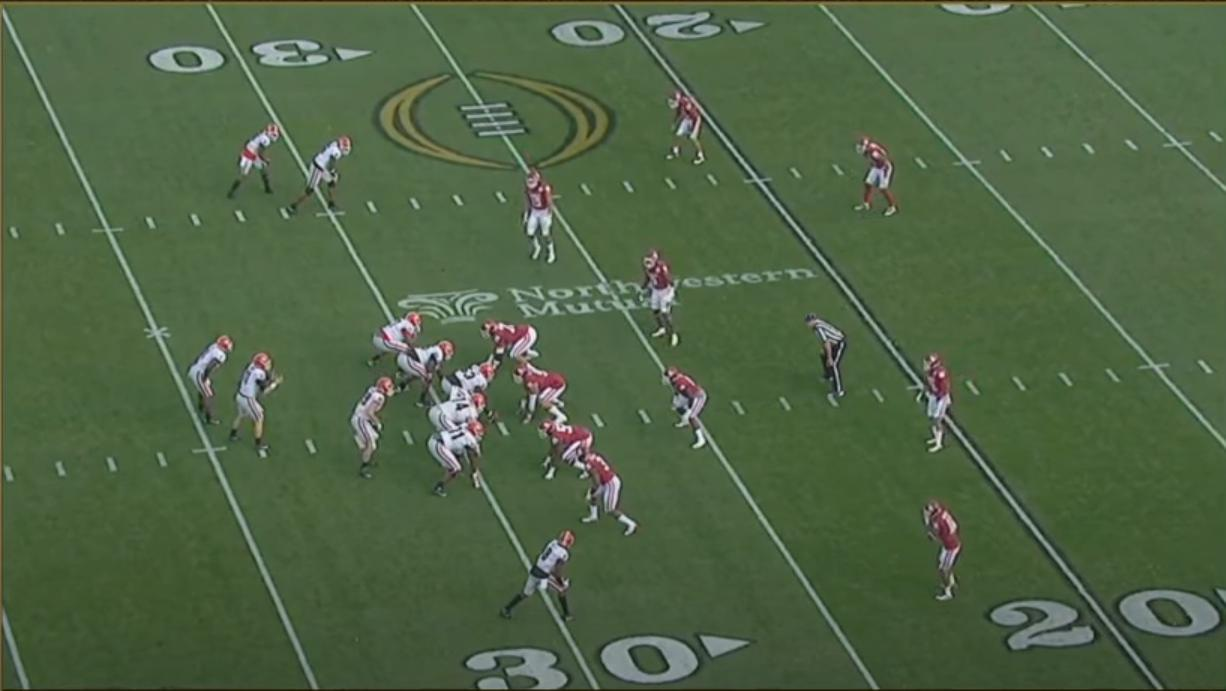defense: (582, 443, 648, 542), (925, 496, 969, 607), (520, 166, 563, 271), (855, 130, 904, 222), (663, 362, 711, 453), (642, 248, 684, 350), (921, 350, 959, 459), (537, 419, 597, 481), (666, 85, 709, 169), (485, 317, 546, 375), (516, 362, 571, 425)
oline: (423, 422, 485, 502), (394, 341, 454, 405), (372, 312, 427, 378), (441, 361, 497, 423), (427, 392, 484, 432)
qb: (235, 350, 284, 460)
ref: (806, 314, 851, 409)
skill: (496, 527, 581, 628), (284, 132, 350, 219), (226, 119, 285, 203), (348, 375, 394, 480), (192, 335, 240, 432)
